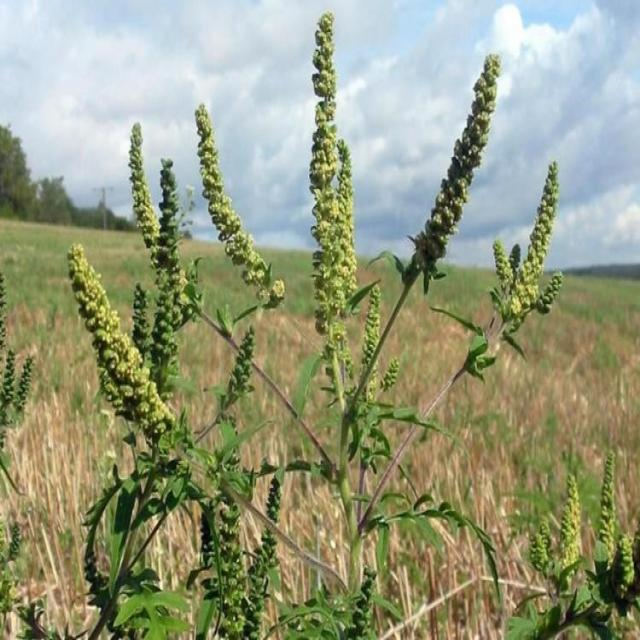ambrosia: (393, 36, 567, 322), (92, 99, 292, 318), (162, 449, 333, 631), (293, 0, 366, 381), (526, 419, 632, 602)
